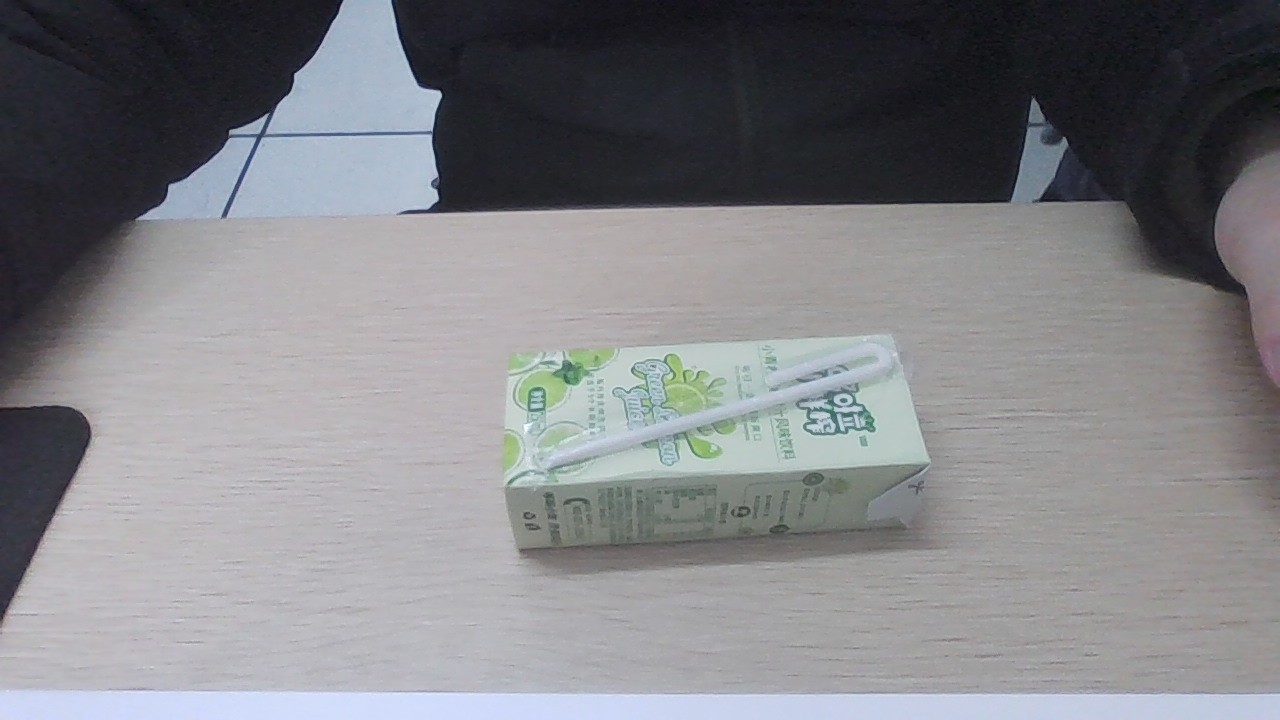CY-drink: (493, 346, 922, 535)
